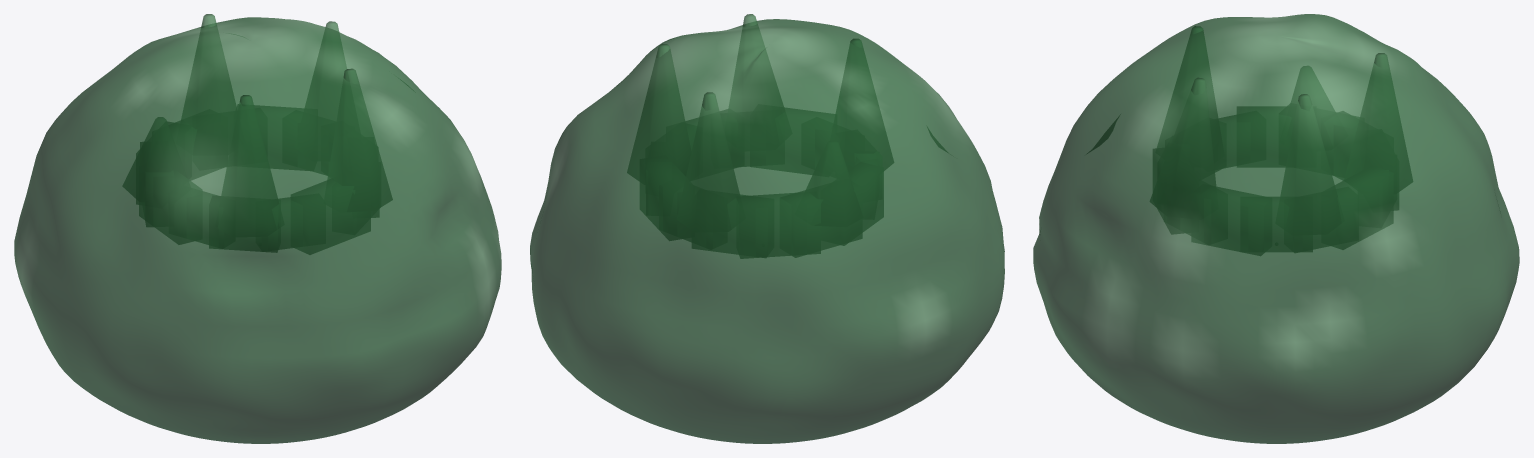
File: king_slime.glb
3 views of the same model, side by side, from view 1: azimuth 30°, elevation 25°; view 2: azimuth 150°, elevation 25°; view 3: azimuth 270°, elevation 25° (orthographic).
Visible parts, largest first — view 1: king_slime; view 2: king_slime; view 3: king_slime.
Part boxes in pixels (x1,y1,x2,y2): king_slime: [14, 14, 501, 443]; king_slime: [530, 14, 1004, 443]; king_slime: [1033, 14, 1519, 443].
Bounding box in the file's own units: 3.56 × 3.03 × 3.57.
